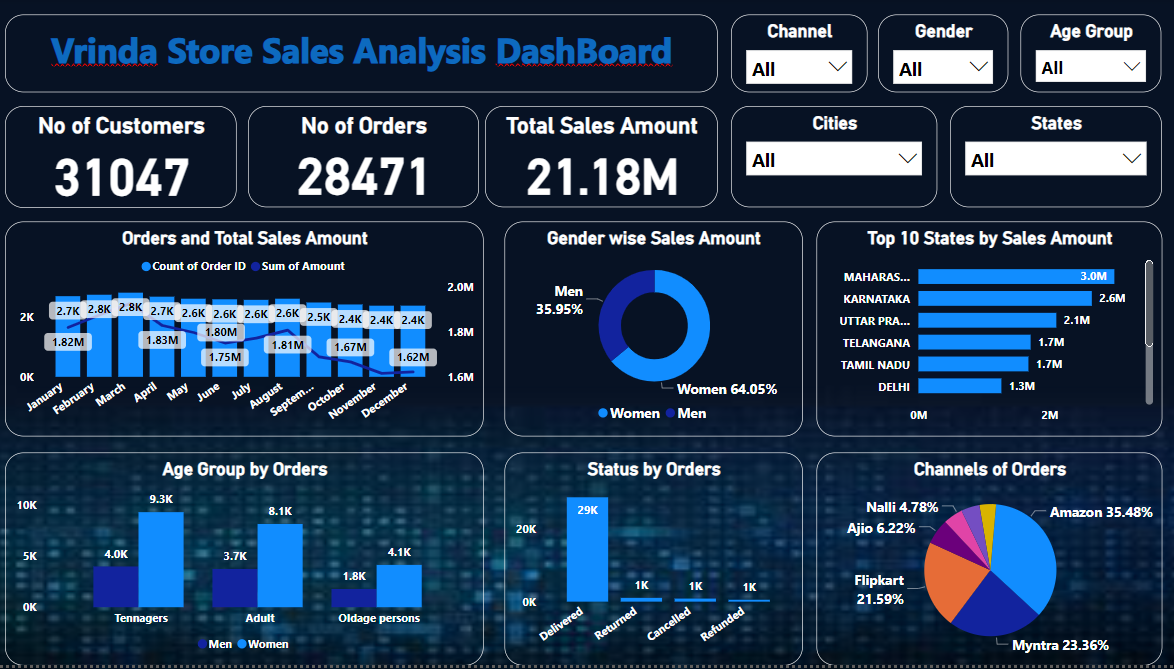

The dashboard page shown, as its layout file describes it:
{"tool":"powerbi","page":{"name":"Page 1","canvas":[1280,720],"ordinal":0},"visuals":[{"type":"textbox","box":[9.7,17.8,769.1,84.2],"z":0},{"type":"slicer","title":"Channel","fields":{"Values":["Vrinda Store.Channel "]},"box":[793.4,17.8,147.3,84.2],"z":1000},{"type":"slicer","title":"Gender","fields":{"Values":["Vrinda Store.Gender"]},"box":[952.1,17.8,140.9,84.2],"z":2000},{"type":"slicer","title":"Age Group","fields":{"Values":["Vrinda Store.Age group"]},"box":[1105.9,17.8,152.2,84.2],"z":3000},{"type":"card","title":"No of Customers","fields":{"Values":["CountNonNull(Vrinda Store.Cust ID)"]},"box":[9.4,117.2,250,110],"z":4000},{"type":"card","title":"Total Sales Amount","fields":{"Values":["Sum(Vrinda Store.Amount)"]},"box":[527.2,117.2,251.3,109.6],"z":5000},{"type":"card","title":"No of Orders","fields":{"Values":["Count(Vrinda Store.Order ID)"]},"box":[272.1,117.2,249.5,109.6],"z":6000},{"type":"slicer","title":"States","fields":{"Values":["Vrinda Store.ship-state"]},"box":[1029.9,117.2,228.7,109.6],"z":7000},{"type":"slicer","title":"Cities","fields":{"Values":["Vrinda Store.ship-city"]},"box":[793.7,117.2,223,109.6],"z":8000},{"type":"lineStackedColumnComboChart","title":"Orders and Total Sales Amount","fields":{"Category":["Vrinda Store.Date.Variation.Date Hierarchy.Month"],"Y":["CountNonNull(Vrinda Store.Order ID)"],"Y2":["Sum(Vrinda Store.Amount)"]},"box":[10,241.7,516.7,231.7],"z":9000},{"type":"donutChart","title":"Gender wise Sales Amount","fields":{"Category":["Vrinda Store.Gender"],"Y":["Sum(Vrinda Store.Amount)"]},"box":[548.3,241.7,321.7,231.7],"z":10000},{"type":"clusteredBarChart","title":"Top 10 States by Sales Amount","fields":{"Category":["Vrinda Store.ship-state","Vrinda Store.Amount"],"Y":["Sum(Vrinda Store.Amount)"]},"box":[885,241.7,373.3,231.7],"z":11000},{"type":"clusteredColumnChart","title":"Age Group by Orders","fields":{"Category":["Vrinda Store.Age group"],"Series":["Vrinda Store.Gender"],"Y":["CountNonNull(Vrinda Store.Order ID)"]},"box":[10,490,516.7,230],"z":12000},{"type":"columnChart","title":"Status by Orders  ","fields":{"Category":["Vrinda Store.Status"],"Y":["CountNonNull(Vrinda Store.Order ID)"]},"box":[548.3,490,321.7,230],"z":13000},{"type":"pieChart","title":"Channels of Orders  ","fields":{"Category":["Vrinda Store.Channel "],"Y":["CountNonNull(Vrinda Store.Order ID)"]},"box":[885,490,373.3,230],"z":14000}]}

Visuals, with their boxes in screenshot pixels (x1, y1, x2, y2), scaled from the page's 1280x720 canvas onto the 1174x669 screenshot:
textbox: {"x1": 9, "y1": 17, "x2": 714, "y2": 95}
"Channel" slicer: {"x1": 728, "y1": 17, "x2": 863, "y2": 95}
"Gender" slicer: {"x1": 873, "y1": 17, "x2": 1002, "y2": 95}
"Age Group" slicer: {"x1": 1014, "y1": 17, "x2": 1154, "y2": 95}
"No of Customers" card: {"x1": 9, "y1": 109, "x2": 238, "y2": 211}
"Total Sales Amount" card: {"x1": 484, "y1": 109, "x2": 714, "y2": 211}
"No of Orders" card: {"x1": 250, "y1": 109, "x2": 478, "y2": 211}
"States" slicer: {"x1": 945, "y1": 109, "x2": 1154, "y2": 211}
"Cities" slicer: {"x1": 728, "y1": 109, "x2": 933, "y2": 211}
"Orders and Total Sales Amount" lineStackedColumnComboChart: {"x1": 9, "y1": 225, "x2": 483, "y2": 440}
"Gender wise Sales Amount" donutChart: {"x1": 503, "y1": 225, "x2": 798, "y2": 440}
"Top 10 States by Sales Amount" clusteredBarChart: {"x1": 812, "y1": 225, "x2": 1154, "y2": 440}
"Age Group by Orders" clusteredColumnChart: {"x1": 9, "y1": 455, "x2": 483, "y2": 668}
"Status by Orders  " columnChart: {"x1": 503, "y1": 455, "x2": 798, "y2": 668}
"Channels of Orders  " pieChart: {"x1": 812, "y1": 455, "x2": 1154, "y2": 668}
